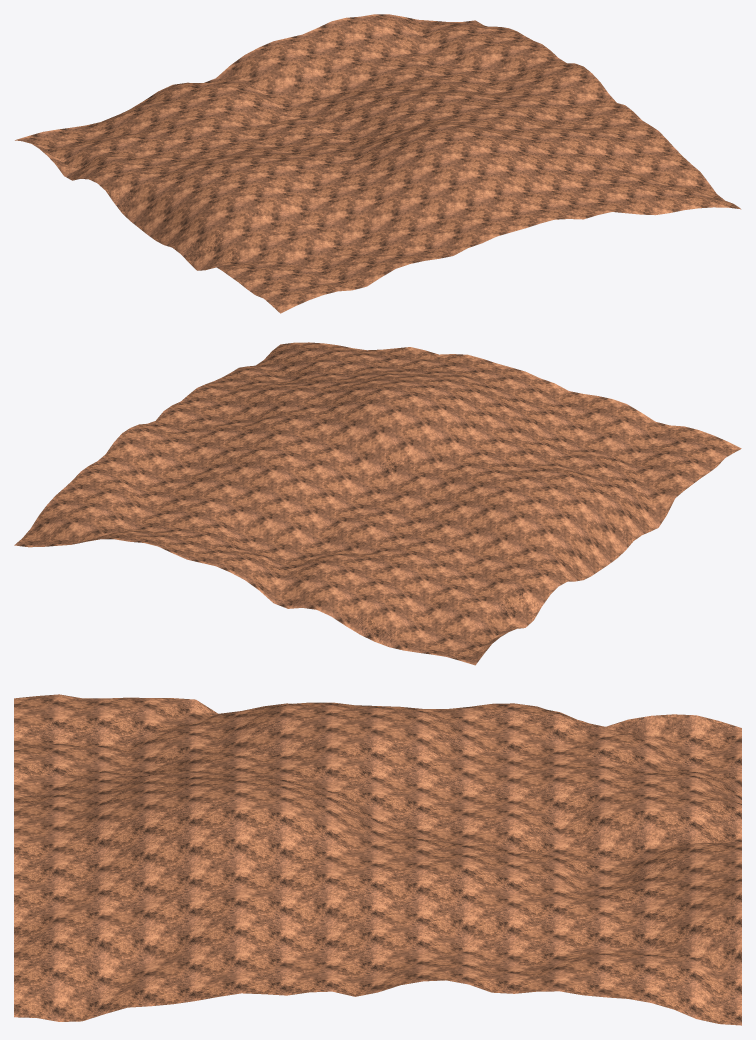
Rendered from terrain_05_00.dae.
3 views of the same model, one above another, from view 1: azimuth 30°, elevation 25°; view 2: azimuth 150°, elevation 25°; view 3: azimuth 270°, elevation 25° (orthographic). The views are drawn at different scales.
Parts seen in each view (by area): view 1: terrain_05_00-node; view 2: terrain_05_00-node; view 3: terrain_05_00-node.
Boxes of the visible parts, x1,y1,x2,y2 form: terrain_05_00-node: (15, 14, 741, 313); terrain_05_00-node: (14, 342, 741, 665); terrain_05_00-node: (14, 694, 741, 1025).
Bounding box in the file's own units: 128 × 128 × 20.4.
Materials: 1 (1 with a texture image).
